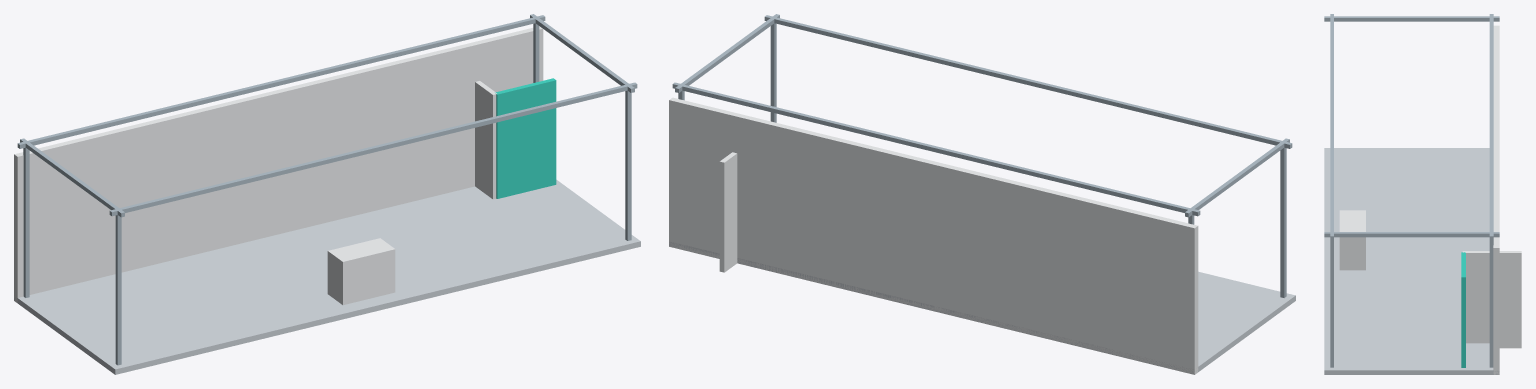
The picture shows the model from 3 angles, left to right: view 1: azimuth 30°, elevation 25°; view 2: azimuth 150°, elevation 25°; view 3: azimuth 270°, elevation 25°; orthographic projection. The views are drawn at different scales.
Visible parts, largest first — view 1: Exhibition Booth Concept; view 2: Exhibition Booth Concept; view 3: Exhibition Booth Concept.
Boxes of the visible parts, box(x1,y1,x2,y2) form: Exhibition Booth Concept: box(14, 14, 640, 374); Exhibition Booth Concept: box(669, 14, 1295, 374); Exhibition Booth Concept: box(1324, 14, 1521, 374).
Size of the model in its own units: 12 by 3.49 by 4.51.
